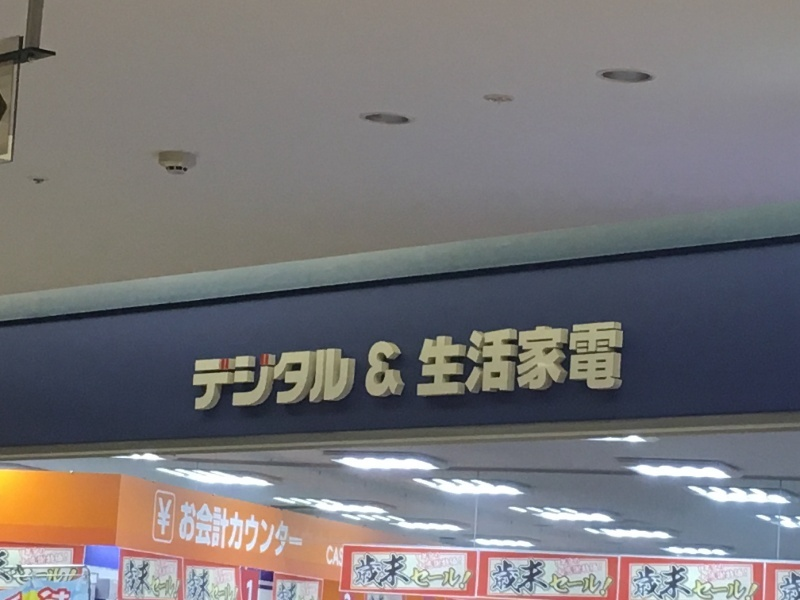text: (433, 322, 448, 396), (449, 322, 464, 396), (465, 322, 480, 396), (481, 322, 496, 396), (497, 322, 512, 396), (513, 322, 528, 396), (529, 322, 544, 396), (545, 322, 560, 396), (561, 322, 576, 396), (577, 322, 592, 396), (593, 322, 608, 396), (609, 322, 624, 396), (209, 348, 224, 411), (225, 348, 240, 411), (241, 348, 256, 411), (257, 348, 272, 411), (273, 348, 288, 411), (289, 348, 304, 411), (305, 348, 320, 411), (321, 348, 336, 411), (337, 348, 352, 411), (193, 499, 208, 562), (209, 499, 224, 562), (225, 499, 240, 562), (241, 499, 256, 562), (257, 499, 272, 562), (273, 499, 288, 562), (420, 322, 432, 396), (194, 348, 208, 411), (289, 499, 303, 562), (385, 341, 400, 397), (370, 341, 384, 397), (182, 499, 192, 562), (129, 560, 144, 599), (145, 560, 160, 599), (161, 560, 176, 599), (497, 560, 512, 596), (513, 560, 528, 596), (529, 560, 544, 596), (545, 560, 560, 596), (561, 560, 576, 596), (577, 560, 592, 596), (593, 560, 608, 596), (369, 555, 384, 589), (385, 555, 400, 589), (401, 555, 416, 589), (417, 555, 432, 589), (433, 555, 448, 589), (449, 555, 464, 589), (641, 567, 656, 600), (657, 567, 672, 600), (673, 567, 688, 600), (689, 567, 704, 600), (705, 567, 720, 600), (721, 567, 736, 600), (737, 567, 752, 600), (1, 551, 16, 582), (193, 569, 208, 600), (209, 569, 224, 600), (225, 569, 239, 600), (161, 497, 172, 536), (356, 555, 368, 589), (785, 573, 800, 600), (401, 341, 406, 397), (465, 555, 473, 589), (289, 582, 304, 600), (17, 569, 32, 585), (33, 569, 48, 585), (49, 569, 64, 585), (433, 557, 448, 572), (418, 557, 432, 572), (449, 557, 463, 572), (561, 563, 576, 577), (577, 563, 592, 577), (327, 545, 336, 568), (705, 569, 720, 582), (721, 569, 736, 582), (65, 569, 77, 585), (353, 348, 356, 411), (609, 560, 614, 596), (33, 553, 48, 565), (49, 553, 64, 565), (247, 580, 256, 600), (305, 582, 315, 600), (635, 567, 640, 600), (753, 567, 758, 600), (49, 589, 64, 600), (279, 582, 288, 600), (737, 569, 749, 582), (177, 560, 181, 599), (561, 558, 576, 568), (705, 564, 720, 574), (337, 545, 343, 568), (417, 552, 432, 561), (21, 553, 32, 565), (19, 548, 32, 558), (33, 548, 46, 558), (593, 563, 602, 577), (188, 569, 192, 600), (781, 573, 784, 600), (126, 560, 128, 599), (41, 589, 48, 600), (433, 552, 441, 561), (494, 560, 496, 596), (699, 569, 704, 582), (698, 564, 704, 574), (556, 563, 560, 577), (65, 589, 70, 600), (555, 558, 560, 568), (13, 569, 16, 585), (577, 558, 581, 568), (159, 497, 160, 536), (65, 553, 68, 565), (721, 564, 724, 574), (415, 552, 416, 561)
